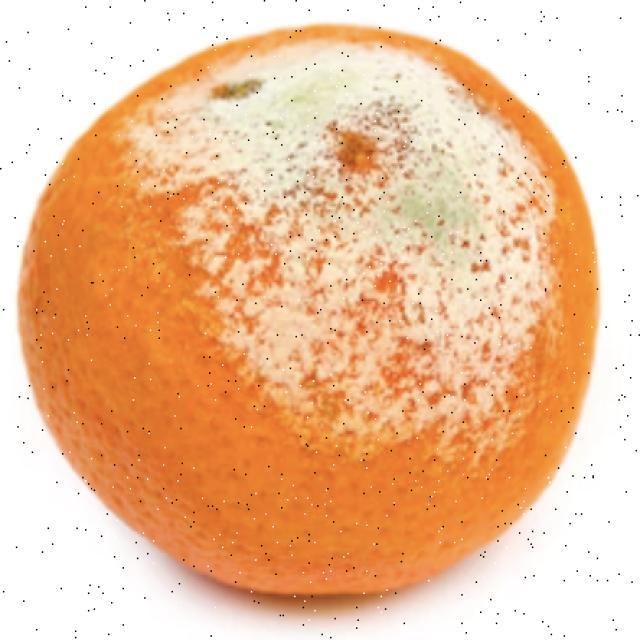sedikit-busuk: (19, 26, 596, 593)
